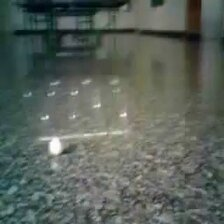w: (47, 136, 63, 155)
